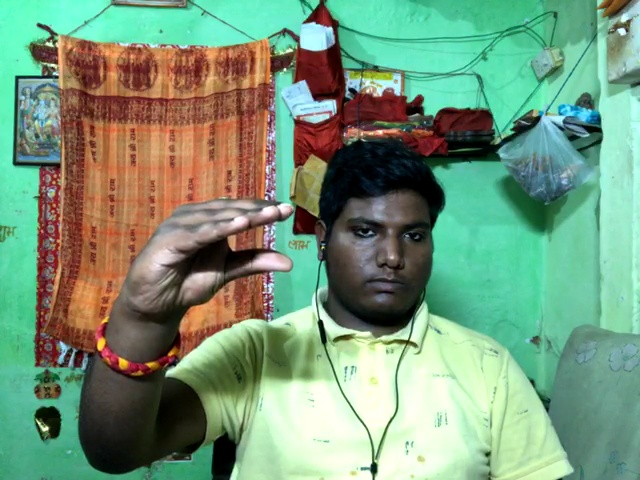No: (94, 184, 318, 333)
